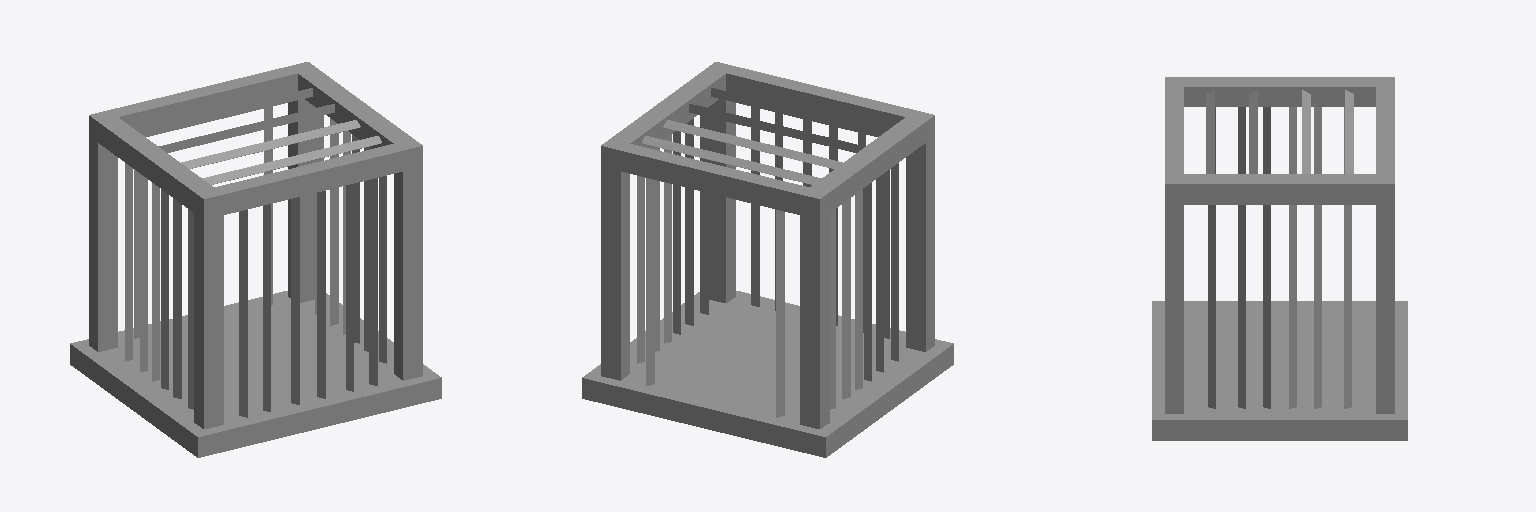
File: CageBed_blend.obj
3 views of the same model, side by side, from view 1: azimuth 30°, elevation 25°; view 2: azimuth 150°, elevation 25°; view 3: azimuth 270°, elevation 25° (orthographic).
Visible parts, largest first — view 1: Cylinder; view 2: Cylinder; view 3: Cylinder.
Boxes of the visible parts, x1=… form: Cylinder: x1=70, y1=62, x2=441, y2=457; Cylinder: x1=582, y1=62, x2=953, y2=457; Cylinder: x1=1152, y1=77, x2=1407, y2=440.
Size of the model in its own units: 2.45 by 2.41 by 2.22.